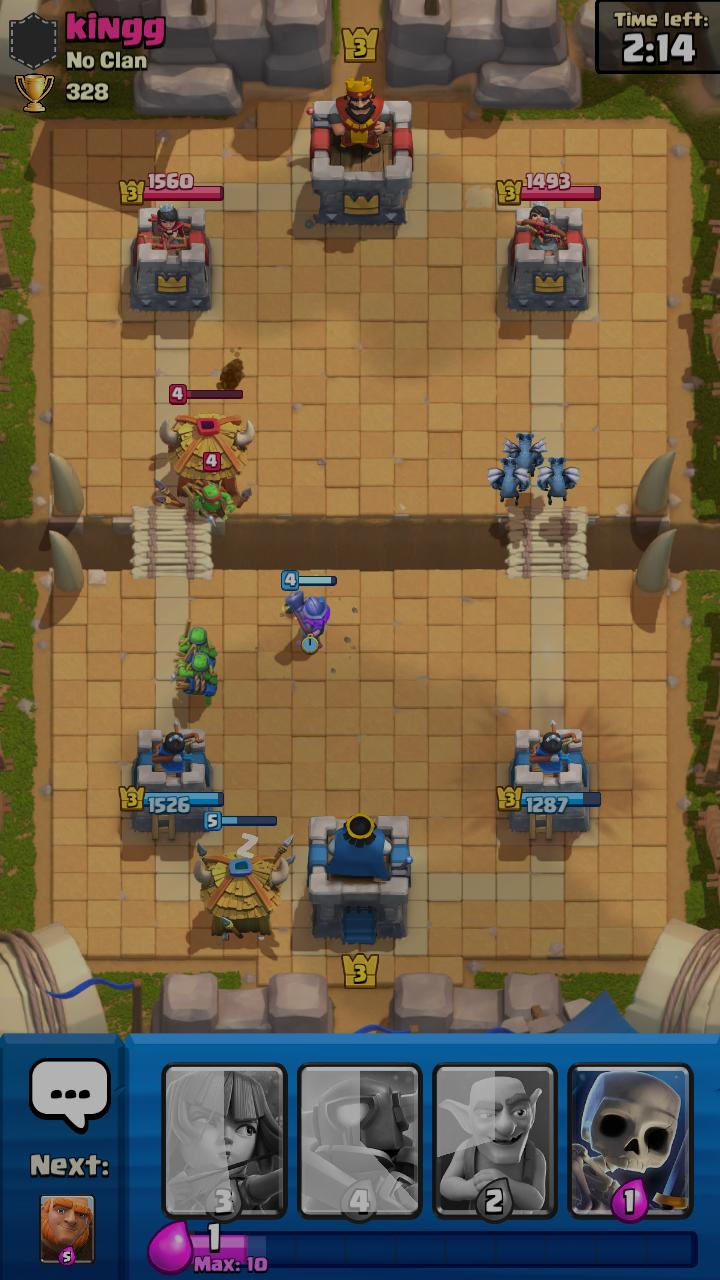ally: (193, 811, 296, 940), (281, 570, 337, 649), (172, 644, 218, 706), (174, 619, 218, 672), (537, 456, 580, 505), (488, 456, 530, 506), (502, 432, 548, 477)
enemy: (153, 383, 256, 508), (183, 451, 236, 526)
